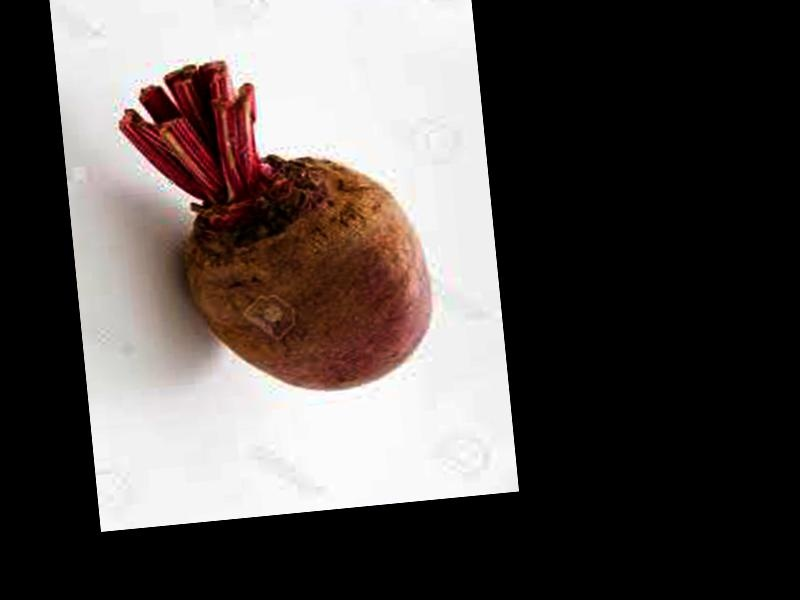Beet: (111, 46, 436, 409)
